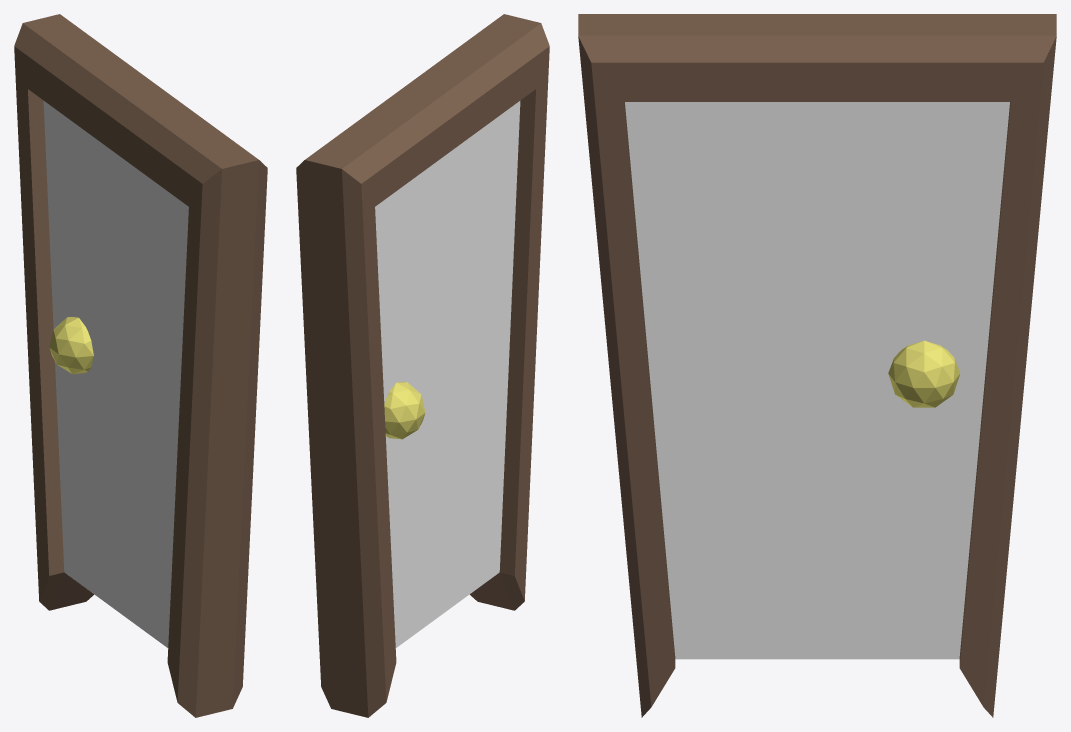
Rendered from SimpleDoor.fbx.
3 renders of one model, left to right at view 1: azimuth 30°, elevation 25°; view 2: azimuth 150°, elevation 25°; view 3: azimuth 270°, elevation 25°, orthographic. The views are drawn at different scales.
Visible parts, largest first — view 1: Door; view 2: Door; view 3: Door.
Part boxes in pixels (left/top/right/bottom): Door: left=14, top=14, right=267, bottom=717; Door: left=296, top=14, right=549, bottom=717; Door: left=578, top=14, right=1056, bottom=717.
Bounding box in the file's own units: 202 × 1295 × 823.
